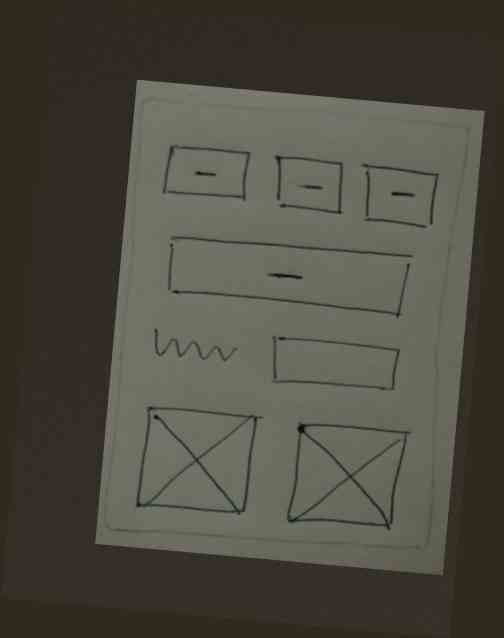button: (159, 227, 420, 322), (153, 136, 263, 208), (351, 157, 447, 237), (267, 150, 351, 219)
image: (127, 393, 270, 519), (281, 410, 415, 538)
text: (143, 322, 245, 373)
text_input: (261, 329, 409, 403)
